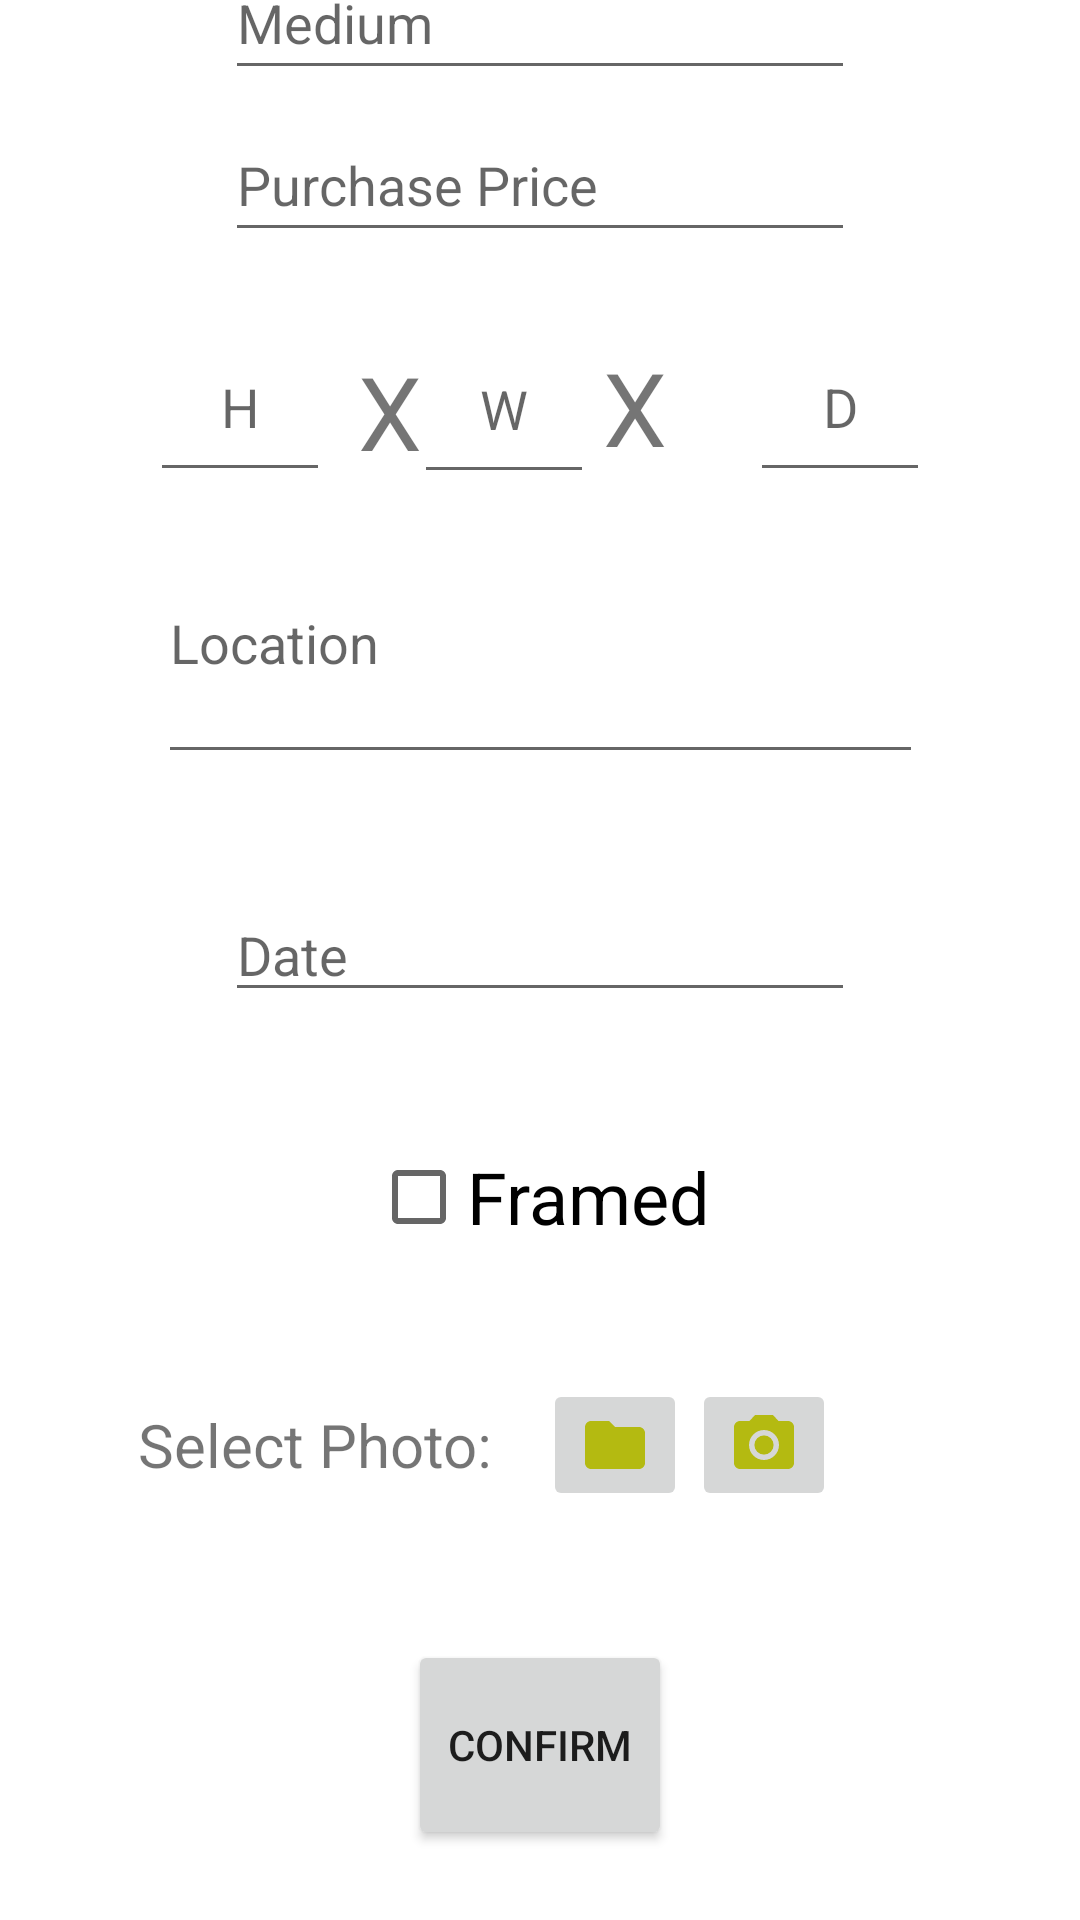

Where to tap for icons on this 1080*1920 app screen, as point (x, y):
camera: point (764, 1445)
folder: point (615, 1445)
